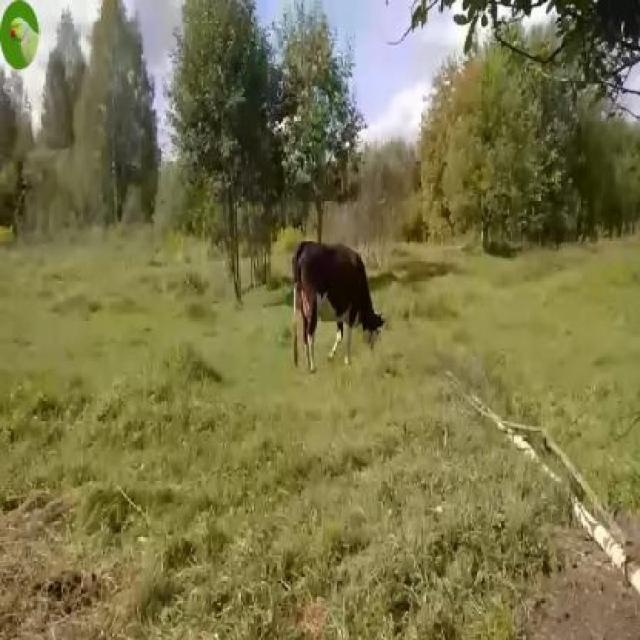Cow: (289, 242, 382, 378)
